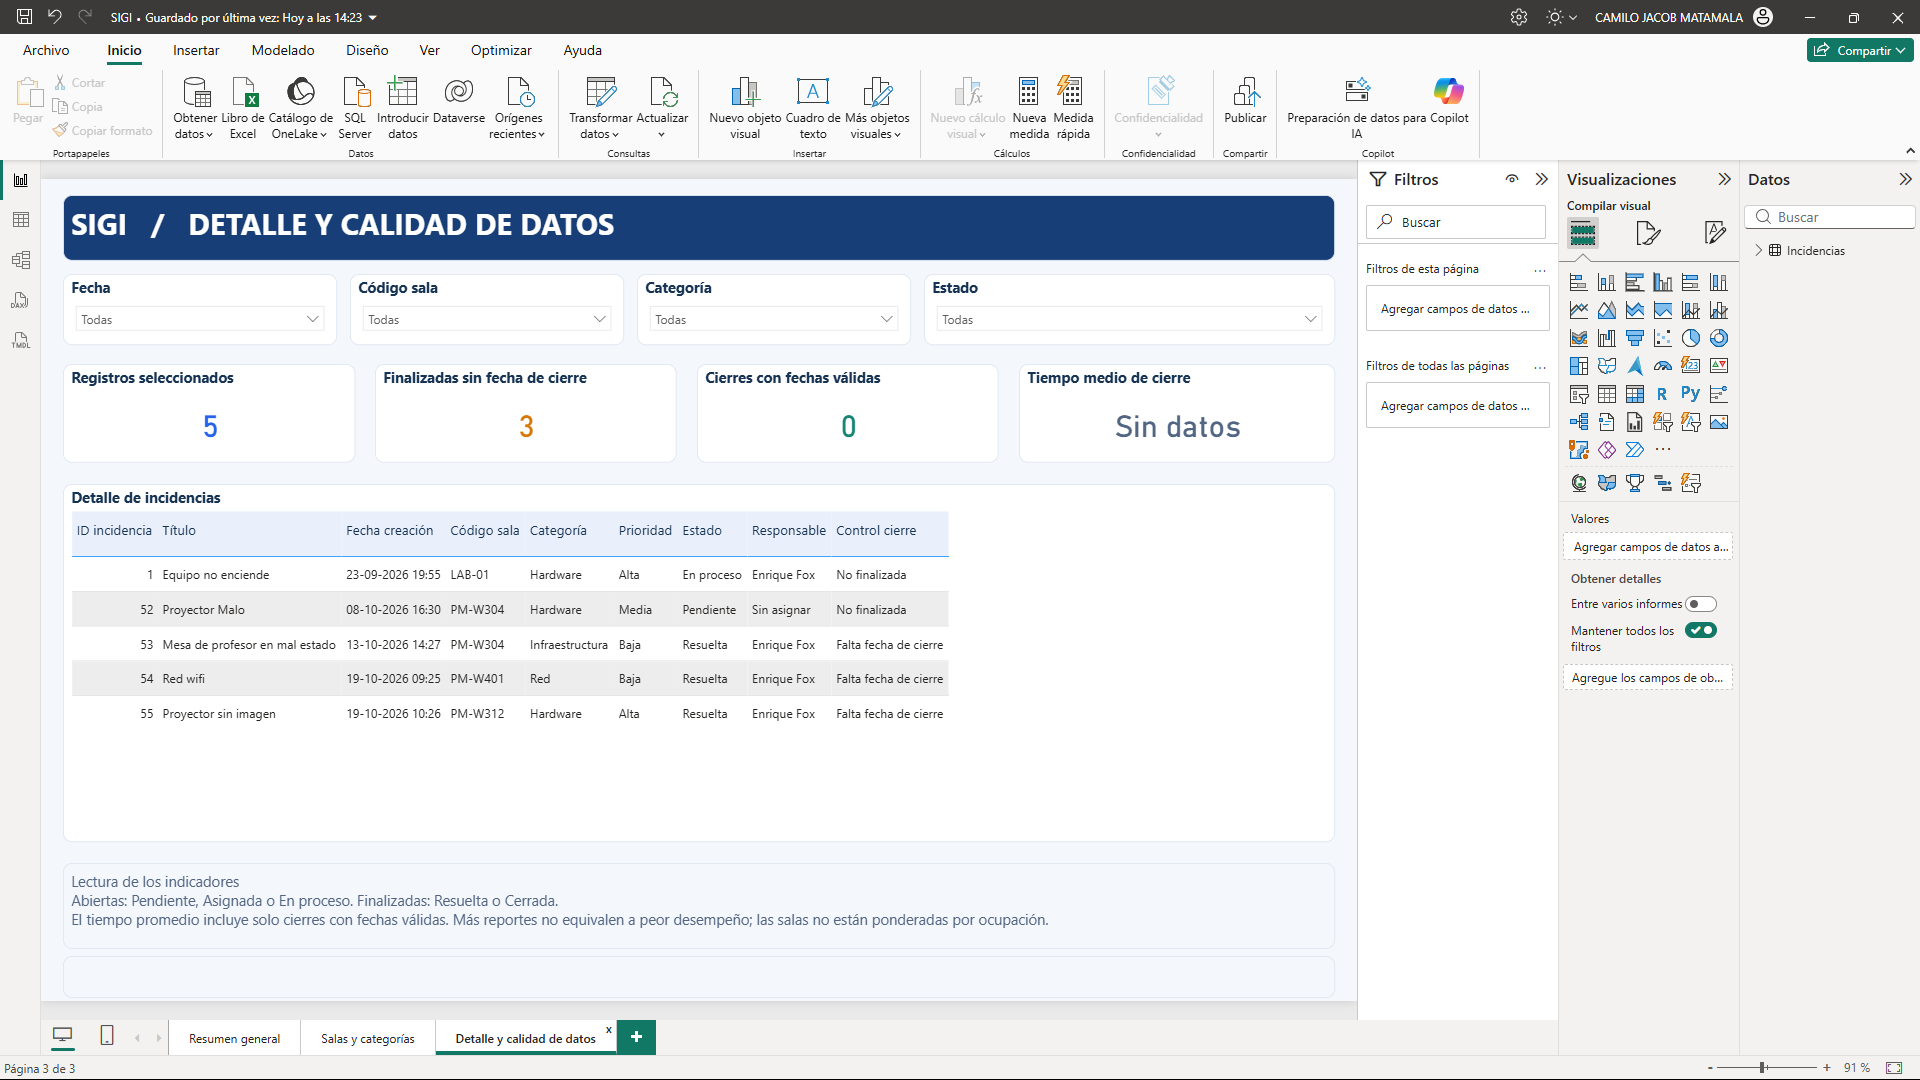

What the dashboard file says about the page in this screenshot:
{"tool":"powerbi","page":{"name":"Detalle y calidad de datos","canvas":[1440,900],"ordinal":2},"visuals":[{"type":"textbox","box":[24,18,1392,72],"z":13},{"type":"slicer","title":"Fecha","fields":{"Values":["Incidencias.Fecha"]},"box":[24,104,300,78],"z":14},{"type":"slicer","title":"Código sala","fields":{"Values":["Incidencias.Código sala"]},"box":[338,104,300,78],"z":15},{"type":"slicer","title":"Categoría","fields":{"Values":["Incidencias.Categoría"]},"box":[652,104,300,78],"z":16},{"type":"slicer","title":"Estado","fields":{"Values":["Incidencias.Estado"]},"box":[966,104,450,78],"z":17},{"type":"textbox","box":[24,850,1392,46],"z":18},{"type":"card","title":"Registros seleccionados","fields":{"Values":["Incidencias.Total incidencias"]},"box":[24,202,320,108],"z":33},{"type":"card","title":"Finalizadas sin fecha de cierre","fields":{"Values":["Incidencias.Cierres sin fecha"]},"box":[366,202,330,108],"z":34},{"type":"card","title":"Cierres con fechas válidas","fields":{"Values":["Incidencias.Cierres válidos"]},"box":[718,202,330,108],"z":35},{"type":"card","title":"Tiempo medio de cierre","fields":{"Values":["Incidencias.Tiempo medio visible"]},"box":[1070,202,346,108],"z":36},{"type":"tableEx","title":"Detalle de incidencias","fields":{"Values":["Incidencias.ID incidencia","Incidencias.Título","Incidencias.Fecha creación","Incidencias.Código sala","Incidencias.Categoría","Incidencias.Prioridad","Incidencias.Estado","Incidencias.Responsable","Incidencias.Control cierre"]},"box":[24,334,1392,392],"z":37},{"type":"textbox","box":[24,748,1392,94],"z":38}]}

Visuals, with their boxes on the page's 1440x900 design canvas (x1, y1, x2, y2). These are canvas units, not pixel positions in the 1920x1080 screenshot, which may show the page scaled, cropped or inside an application window:
textbox: Rect(24, 18, 1416, 90)
"Fecha" slicer: Rect(24, 104, 324, 182)
"Código sala" slicer: Rect(338, 104, 638, 182)
"Categoría" slicer: Rect(652, 104, 952, 182)
"Estado" slicer: Rect(966, 104, 1416, 182)
textbox: Rect(24, 850, 1416, 896)
"Registros seleccionados" card: Rect(24, 202, 344, 310)
"Finalizadas sin fecha de cierre" card: Rect(366, 202, 696, 310)
"Cierres con fechas válidas" card: Rect(718, 202, 1048, 310)
"Tiempo medio de cierre" card: Rect(1070, 202, 1416, 310)
"Detalle de incidencias" tableEx: Rect(24, 334, 1416, 726)
textbox: Rect(24, 748, 1416, 842)
